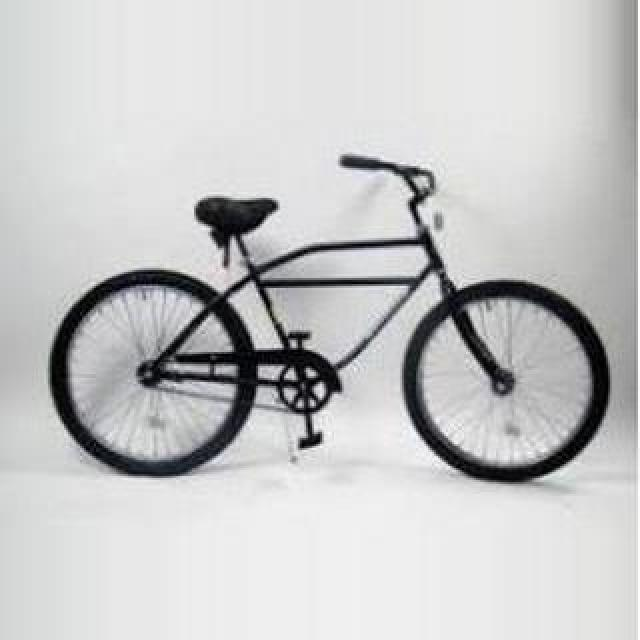Person: (48, 147, 614, 483)
